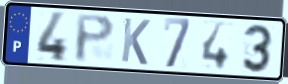3: (242, 22, 274, 75)
4: (35, 11, 71, 64), (200, 20, 232, 72)
7: (162, 15, 192, 71)
K: (119, 16, 152, 67)
P: (74, 13, 117, 65)
